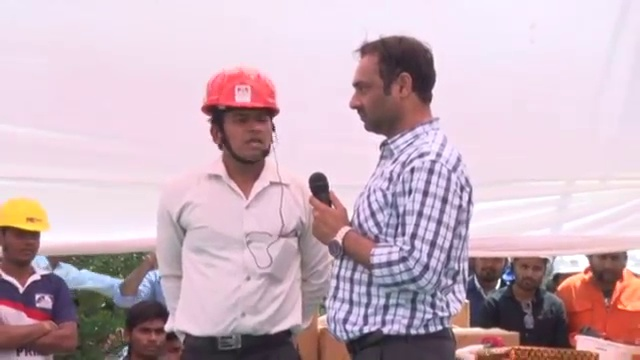helmet: (193, 68, 291, 115), (2, 198, 51, 240), (552, 253, 589, 279)
helmet_off: (351, 34, 438, 135), (118, 300, 172, 358), (514, 256, 552, 299), (590, 247, 625, 279), (473, 251, 505, 285)
helmet_on: (194, 69, 292, 176), (0, 198, 52, 270)
person: (308, 25, 489, 360), (144, 55, 339, 360), (0, 197, 79, 358), (560, 247, 638, 347), (484, 252, 568, 342), (458, 249, 518, 329)
